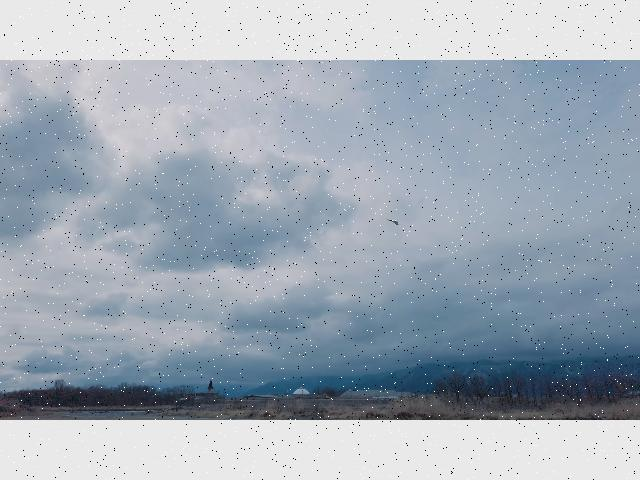Anti-Drone: (384, 215, 402, 229)
